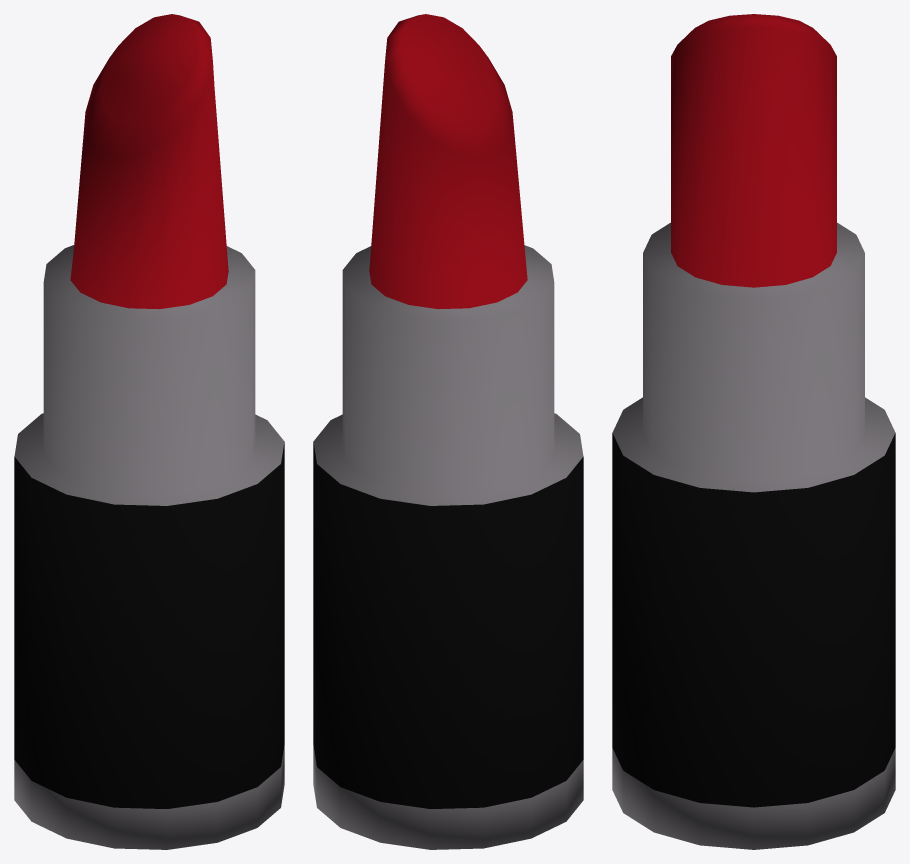
The model's file is Lipstick.fbx.
3 views of the same model, side by side, from view 1: azimuth 30°, elevation 25°; view 2: azimuth 150°, elevation 25°; view 3: azimuth 270°, elevation 25° (orthographic). The views are drawn at different scales.
Parts seen in each view (by area): view 1: lipstick; view 2: lipstick; view 3: lipstick.
Boxes of the visible parts, x1,y1,x2,y2 form: lipstick: (14, 14, 284, 849); lipstick: (313, 14, 583, 849); lipstick: (612, 14, 895, 849).
Bounding box in the file's own units: 4.03 × 12.48 × 4.03.
